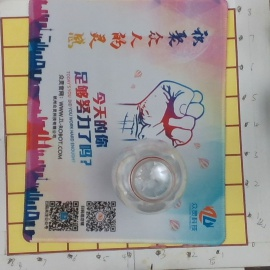bottle: (113, 138, 187, 213)
